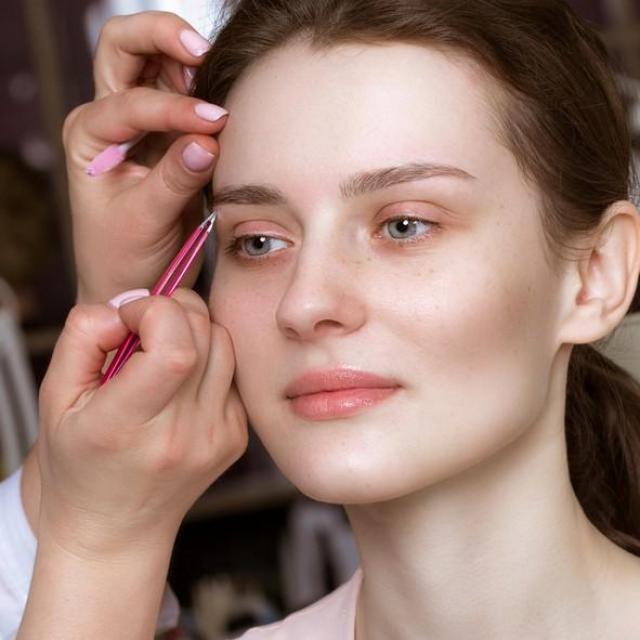freckle: (302, 250, 473, 308), (481, 192, 539, 297)
